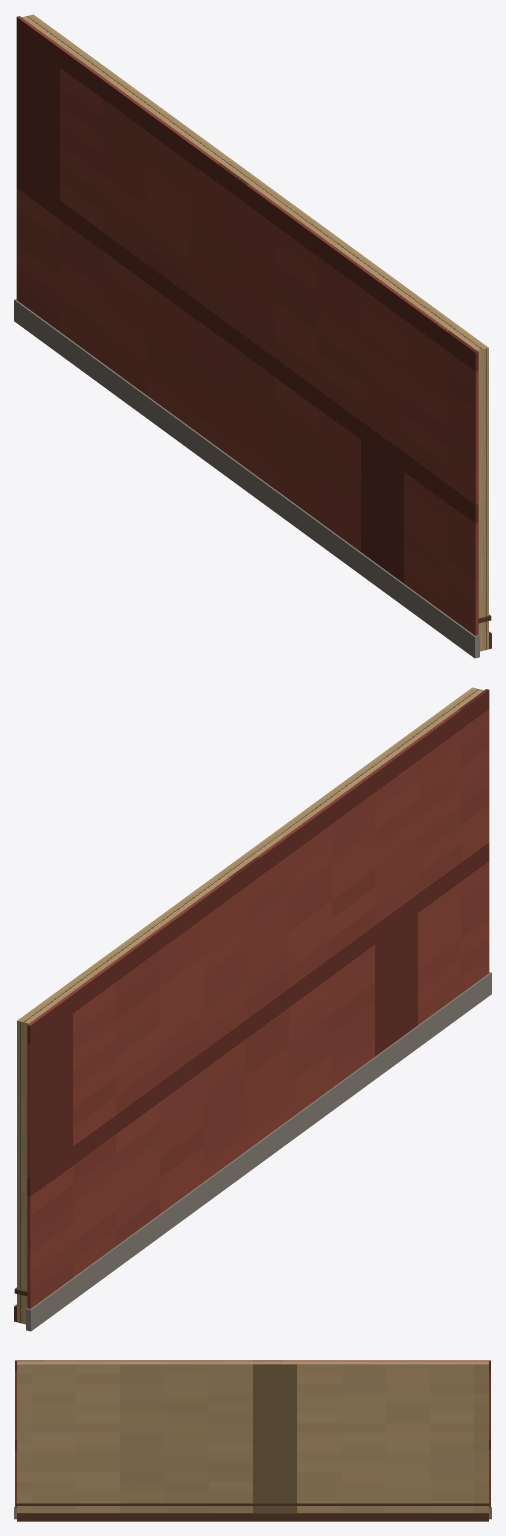
File: left.glb
The picture shows the model from 3 angles, top to bottom: view 1: azimuth 30°, elevation 25°; view 2: azimuth 150°, elevation 25°; view 3: azimuth 270°, elevation 25°; orthographic projection. The views are drawn at different scales.
Parts seen in each view (by area): view 1: Box3, Box4, Box1; view 2: Box3, Box4, Box1; view 3: Box1, Box2, Box3, Box6.
Part boxes in pixels (x1,y1,x2,y2): Box3: (16, 16, 478, 635); Box4: (14, 299, 479, 658); Box1: (22, 14, 488, 651); Box3: (27, 689, 489, 1308); Box4: (26, 972, 491, 1331); Box1: (17, 687, 483, 1324); Box1: (17, 1361, 488, 1512); Box2: (17, 1513, 488, 1521); Box3: (15, 1360, 490, 1507); Box6: (16, 1500, 489, 1505).
Bounding box in the file's own units: 0.25 × 3.64 × 9.97.
4 materials, 2 textured.
